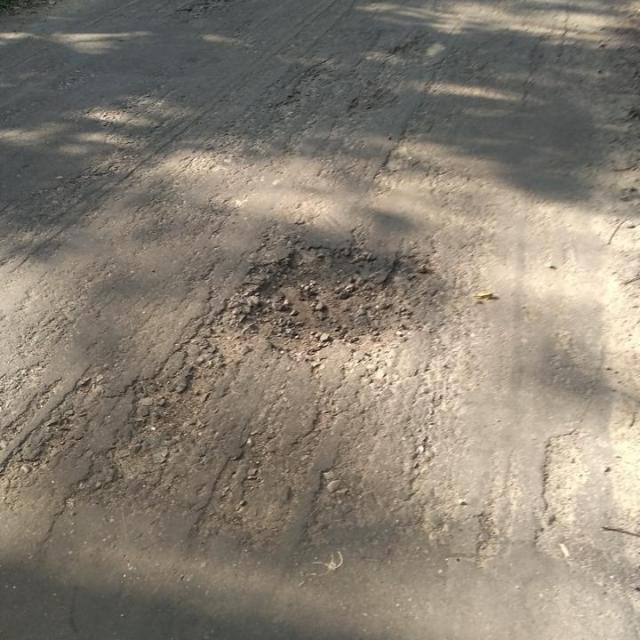pothole: (219, 244, 435, 365), (237, 241, 435, 359)
